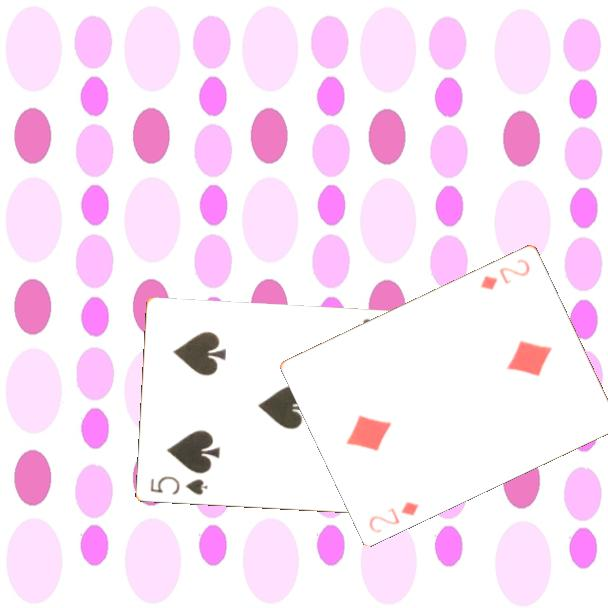d02: (477, 255, 533, 292), (366, 498, 422, 535)
s05: (146, 473, 210, 498)
